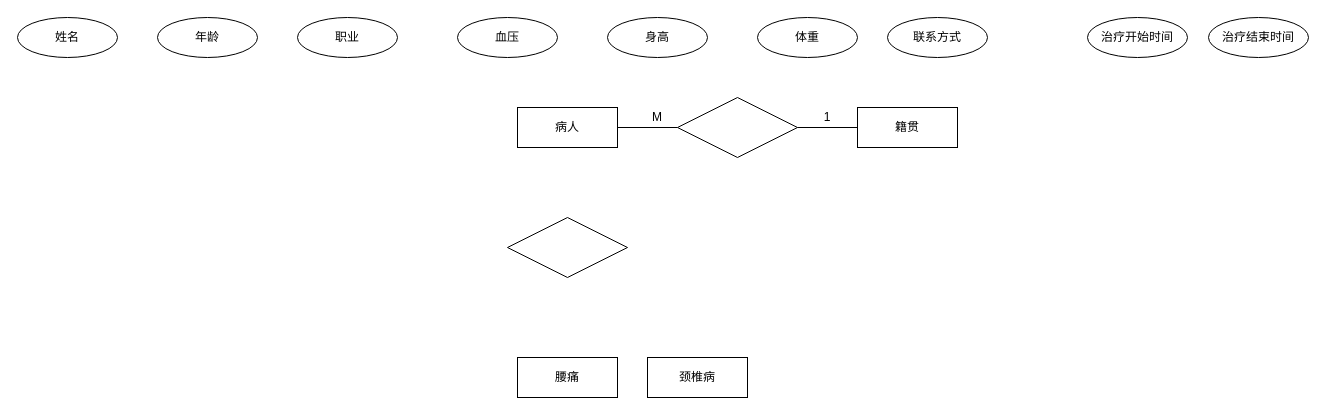
This 1326x415 diagram has some shape labels left out. Each missing label, with the box of its shape:
属于: (676, 96, 798, 158)
拥有: (506, 216, 628, 278)
